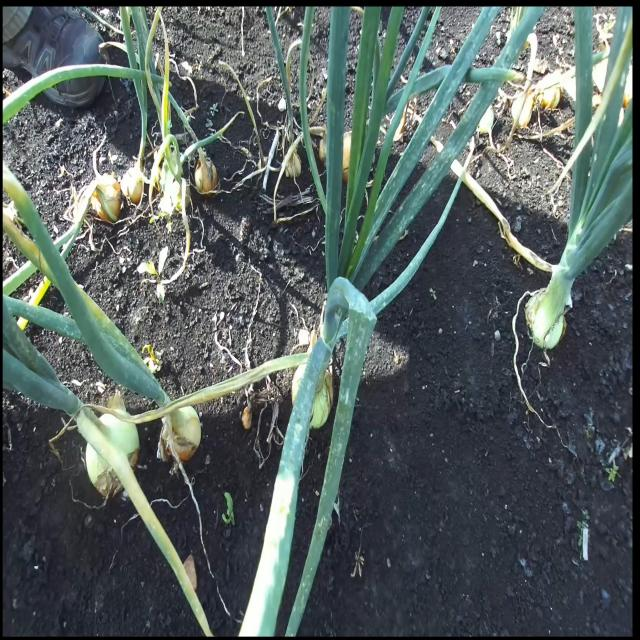onion: (84, 412, 140, 499), (291, 362, 333, 430), (158, 404, 201, 464), (318, 128, 352, 184), (92, 176, 122, 224), (194, 151, 218, 195), (120, 166, 144, 206)
